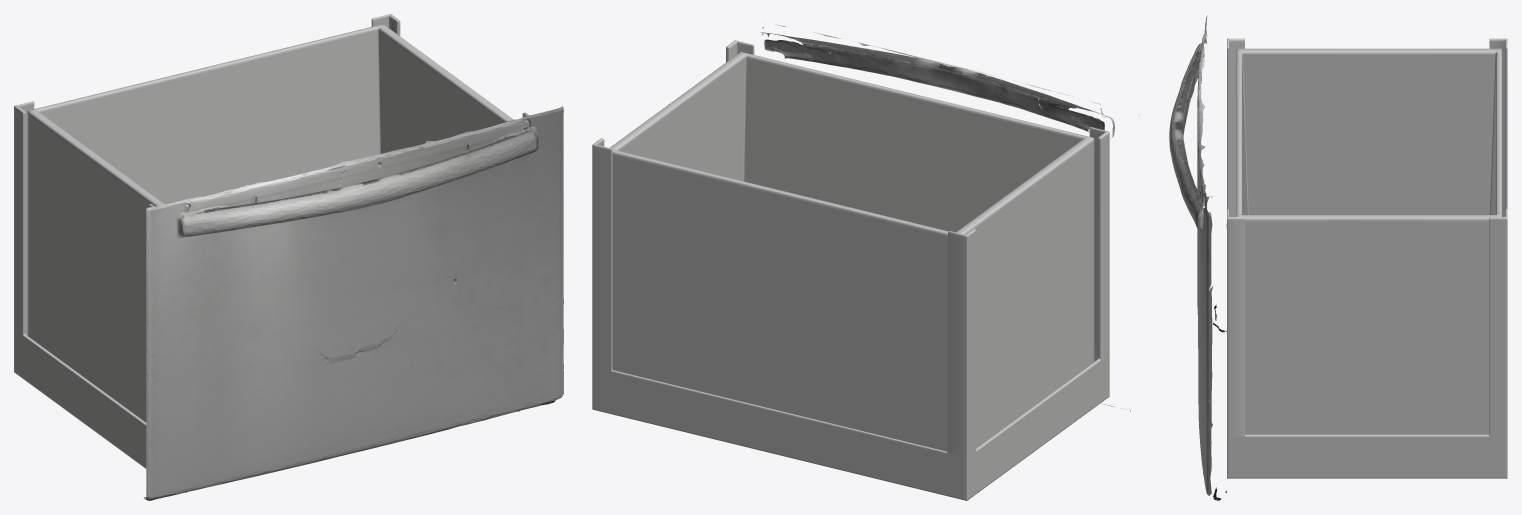
The model's file is drawer_bottom.glb.
3 views of the same model, side by side, from view 1: azimuth 30°, elevation 25°; view 2: azimuth 150°, elevation 25°; view 3: azimuth 270°, elevation 25° (orthographic). The views are drawn at different scales.
Visible parts, largest first — view 1: source_front_cap_0, prefab_drawer_body_1; view 2: prefab_drawer_body_1, source_front_cap_0; view 3: prefab_drawer_body_1, source_front_cap_0.
Part boxes in pixels (x1,y1,x2,y2): source_front_cap_0: (144, 106, 563, 500); prefab_drawer_body_1: (14, 14, 530, 468); prefab_drawer_body_1: (592, 40, 1109, 500); source_front_cap_0: (761, 24, 1139, 411); prefab_drawer_body_1: (1227, 38, 1507, 478); source_front_cap_0: (1169, 15, 1226, 500).
Size of the model in its own units: 1.72 by 1.16 by 1.23.
2 materials, 1 textured.
